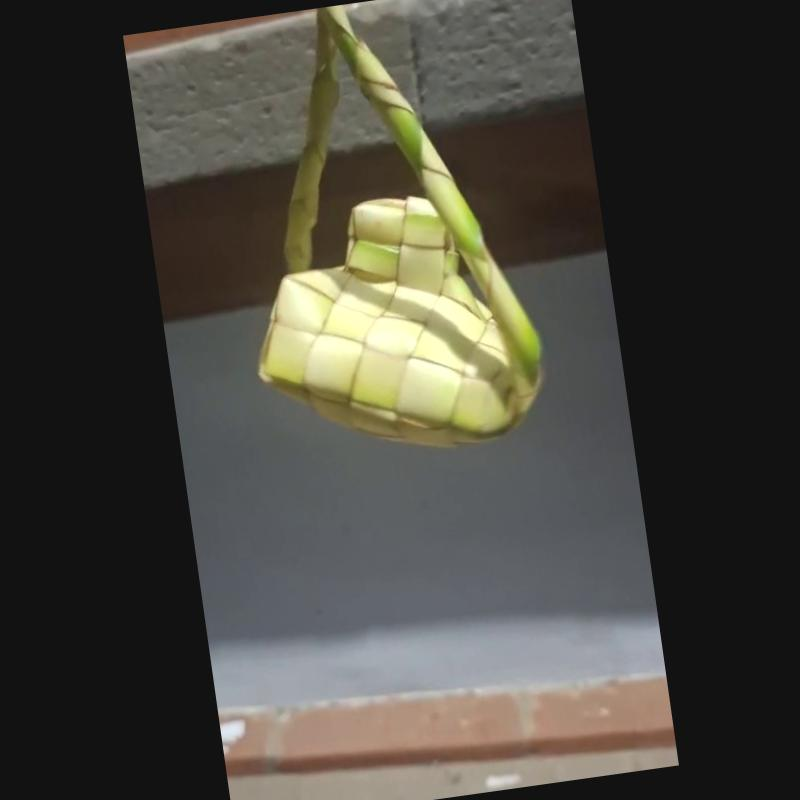Tipat Gong: (255, 4, 547, 449)
